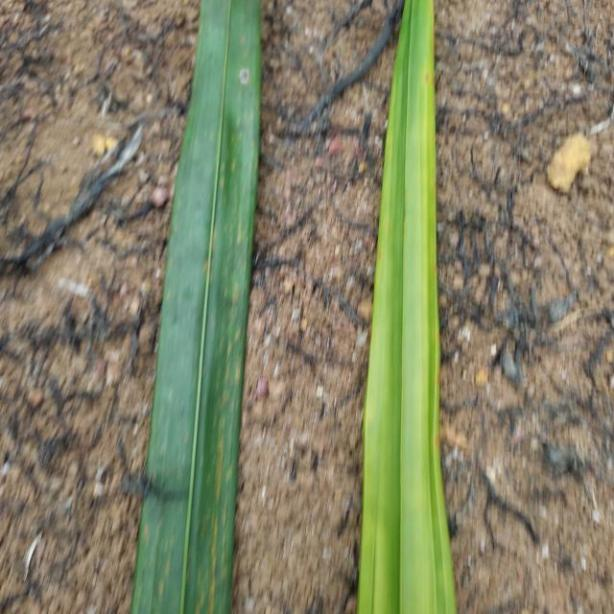nitrogen: (130, 0, 260, 614), (355, 0, 457, 614)
